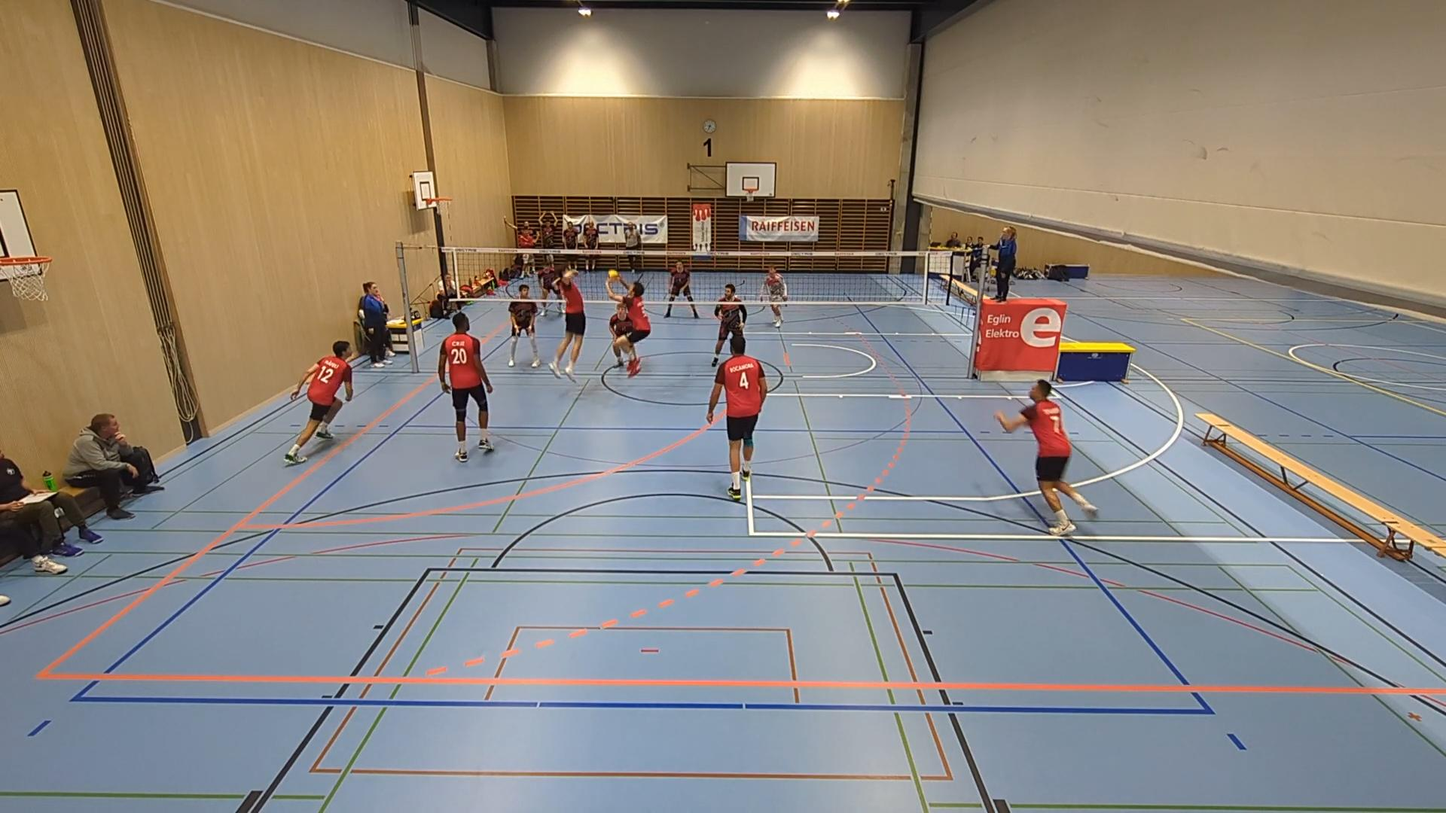alzata: (605, 272, 653, 376)
attacco: (546, 267, 592, 380)
